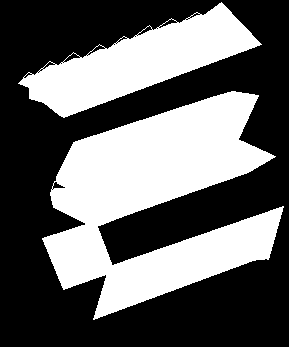parkingspot: (18, 2, 261, 117), (50, 127, 275, 227), (93, 206, 283, 319), (56, 91, 258, 194), (42, 221, 114, 289)
